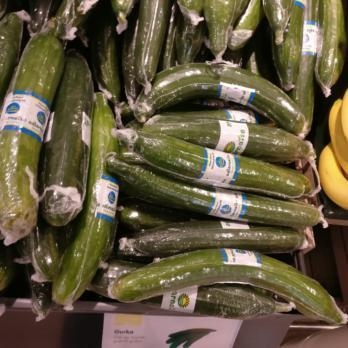Cucumber: (0, 99, 315, 327), (0, 0, 348, 96)
